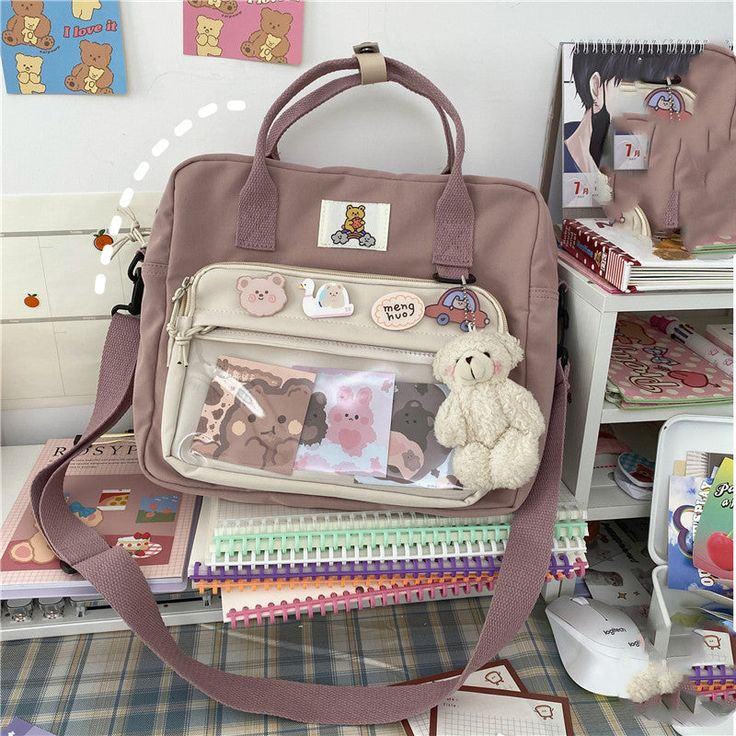nylon: (31, 52, 570, 728)
